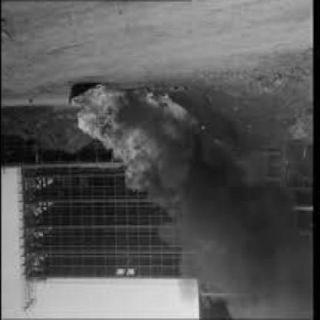Fire: (74, 85, 164, 198)
Smoke: (156, 139, 310, 317)
